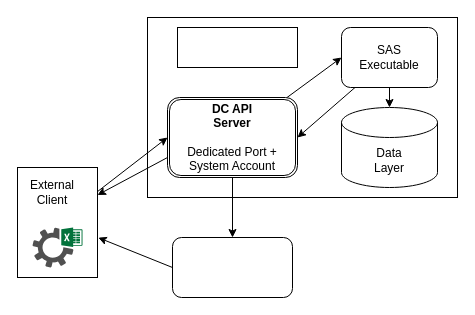
The diagram is 475 pixels wide and 315 high, and some of its shapes have lost their labels. The shapes that lost their labels are listed below. From the top down, each one's centre as x and y in pixels, then its label:
At point 237,47: "SAS Platform".
At point 232,267: "Okta Server Authorisation Code Flow".
